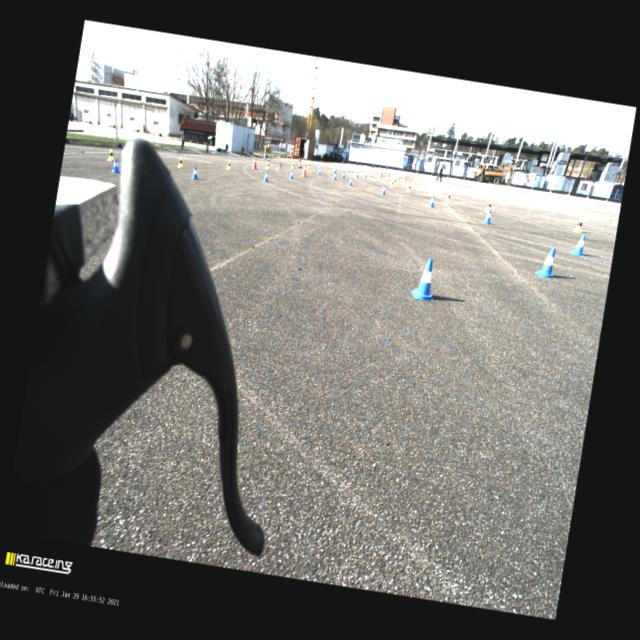blue_cone: (410, 256, 440, 302), (534, 246, 561, 280), (570, 232, 588, 256), (482, 208, 493, 224), (111, 158, 122, 174), (190, 165, 200, 180), (428, 194, 437, 208), (380, 184, 388, 196), (263, 170, 270, 182), (289, 170, 295, 180), (348, 176, 353, 186), (332, 172, 338, 180), (318, 167, 322, 175), (341, 172, 346, 178), (355, 171, 359, 178), (364, 172, 368, 178), (332, 167, 336, 173), (371, 172, 374, 178), (347, 167, 350, 172), (342, 168, 345, 172), (335, 167, 337, 173), (379, 172, 381, 177)
large_orange_cone: (251, 156, 259, 170), (301, 164, 308, 178)
orange_cone: (384, 172, 386, 178), (381, 172, 383, 178), (412, 176, 414, 181), (388, 172, 390, 177), (404, 176, 406, 180), (407, 176, 409, 180), (410, 176, 412, 180), (382, 172, 384, 176)
yellow_cone: (572, 216, 584, 233), (107, 148, 116, 162), (177, 156, 184, 168), (486, 200, 492, 212), (446, 192, 452, 202), (226, 160, 232, 170), (406, 184, 412, 192), (390, 180, 394, 188), (266, 162, 270, 169), (291, 162, 295, 168), (394, 180, 396, 186), (394, 178, 396, 184), (398, 176, 400, 182), (309, 162, 311, 168), (308, 162, 310, 168), (400, 176, 402, 181), (318, 163, 320, 168)
